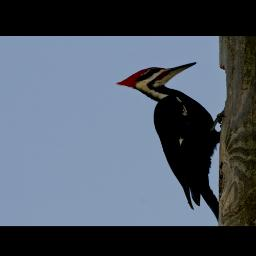Woodpecker: (112, 61, 223, 210)
